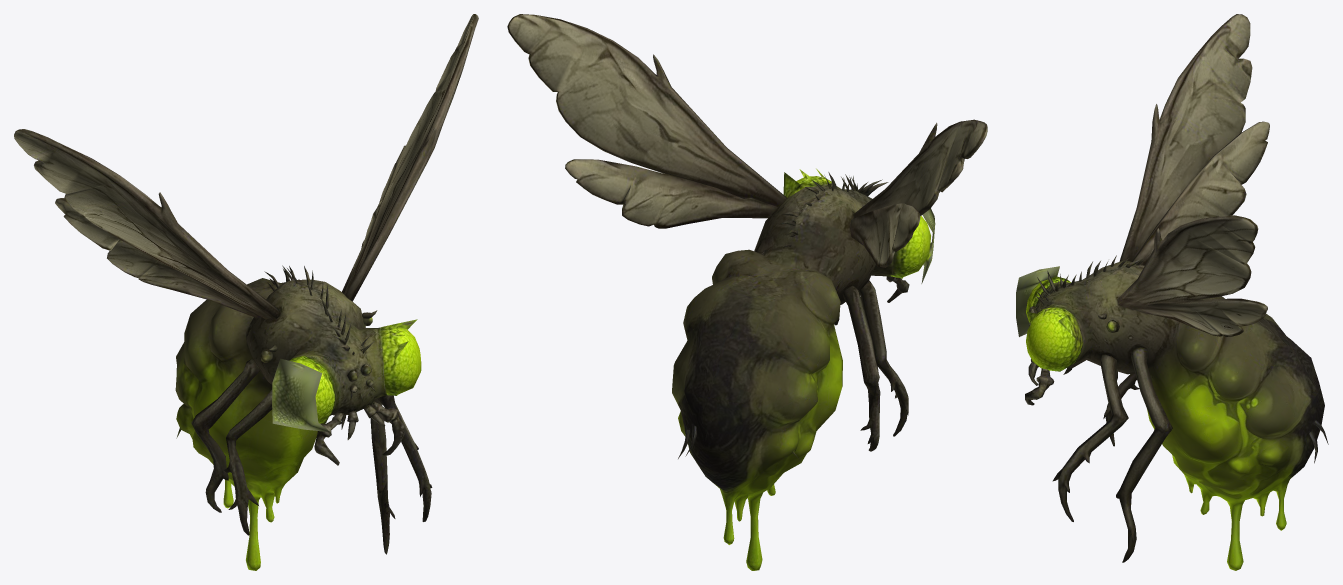
The model's file is pfly.glb.
3 renders of one model, left to right at view 1: azimuth 30°, elevation 25°; view 2: azimuth 150°, elevation 25°; view 3: azimuth 270°, elevation 25°, orthographic. The views are drawn at different scales.
Visible parts, largest first — view 1: tripo_node_9467fb84-c22f-4563-9de9-98501e7565b7; view 2: tripo_node_9467fb84-c22f-4563-9de9-98501e7565b7; view 3: tripo_node_9467fb84-c22f-4563-9de9-98501e7565b7.
Part boxes in pixels (x1,y1,x2,y2): tripo_node_9467fb84-c22f-4563-9de9-98501e7565b7: [14, 14, 478, 570]; tripo_node_9467fb84-c22f-4563-9de9-98501e7565b7: [507, 14, 987, 570]; tripo_node_9467fb84-c22f-4563-9de9-98501e7565b7: [1016, 14, 1328, 570].
Bounding box in the file's own units: 0.9825 × 0.998 × 0.623.
Materials: 1 (1 with a texture image).
